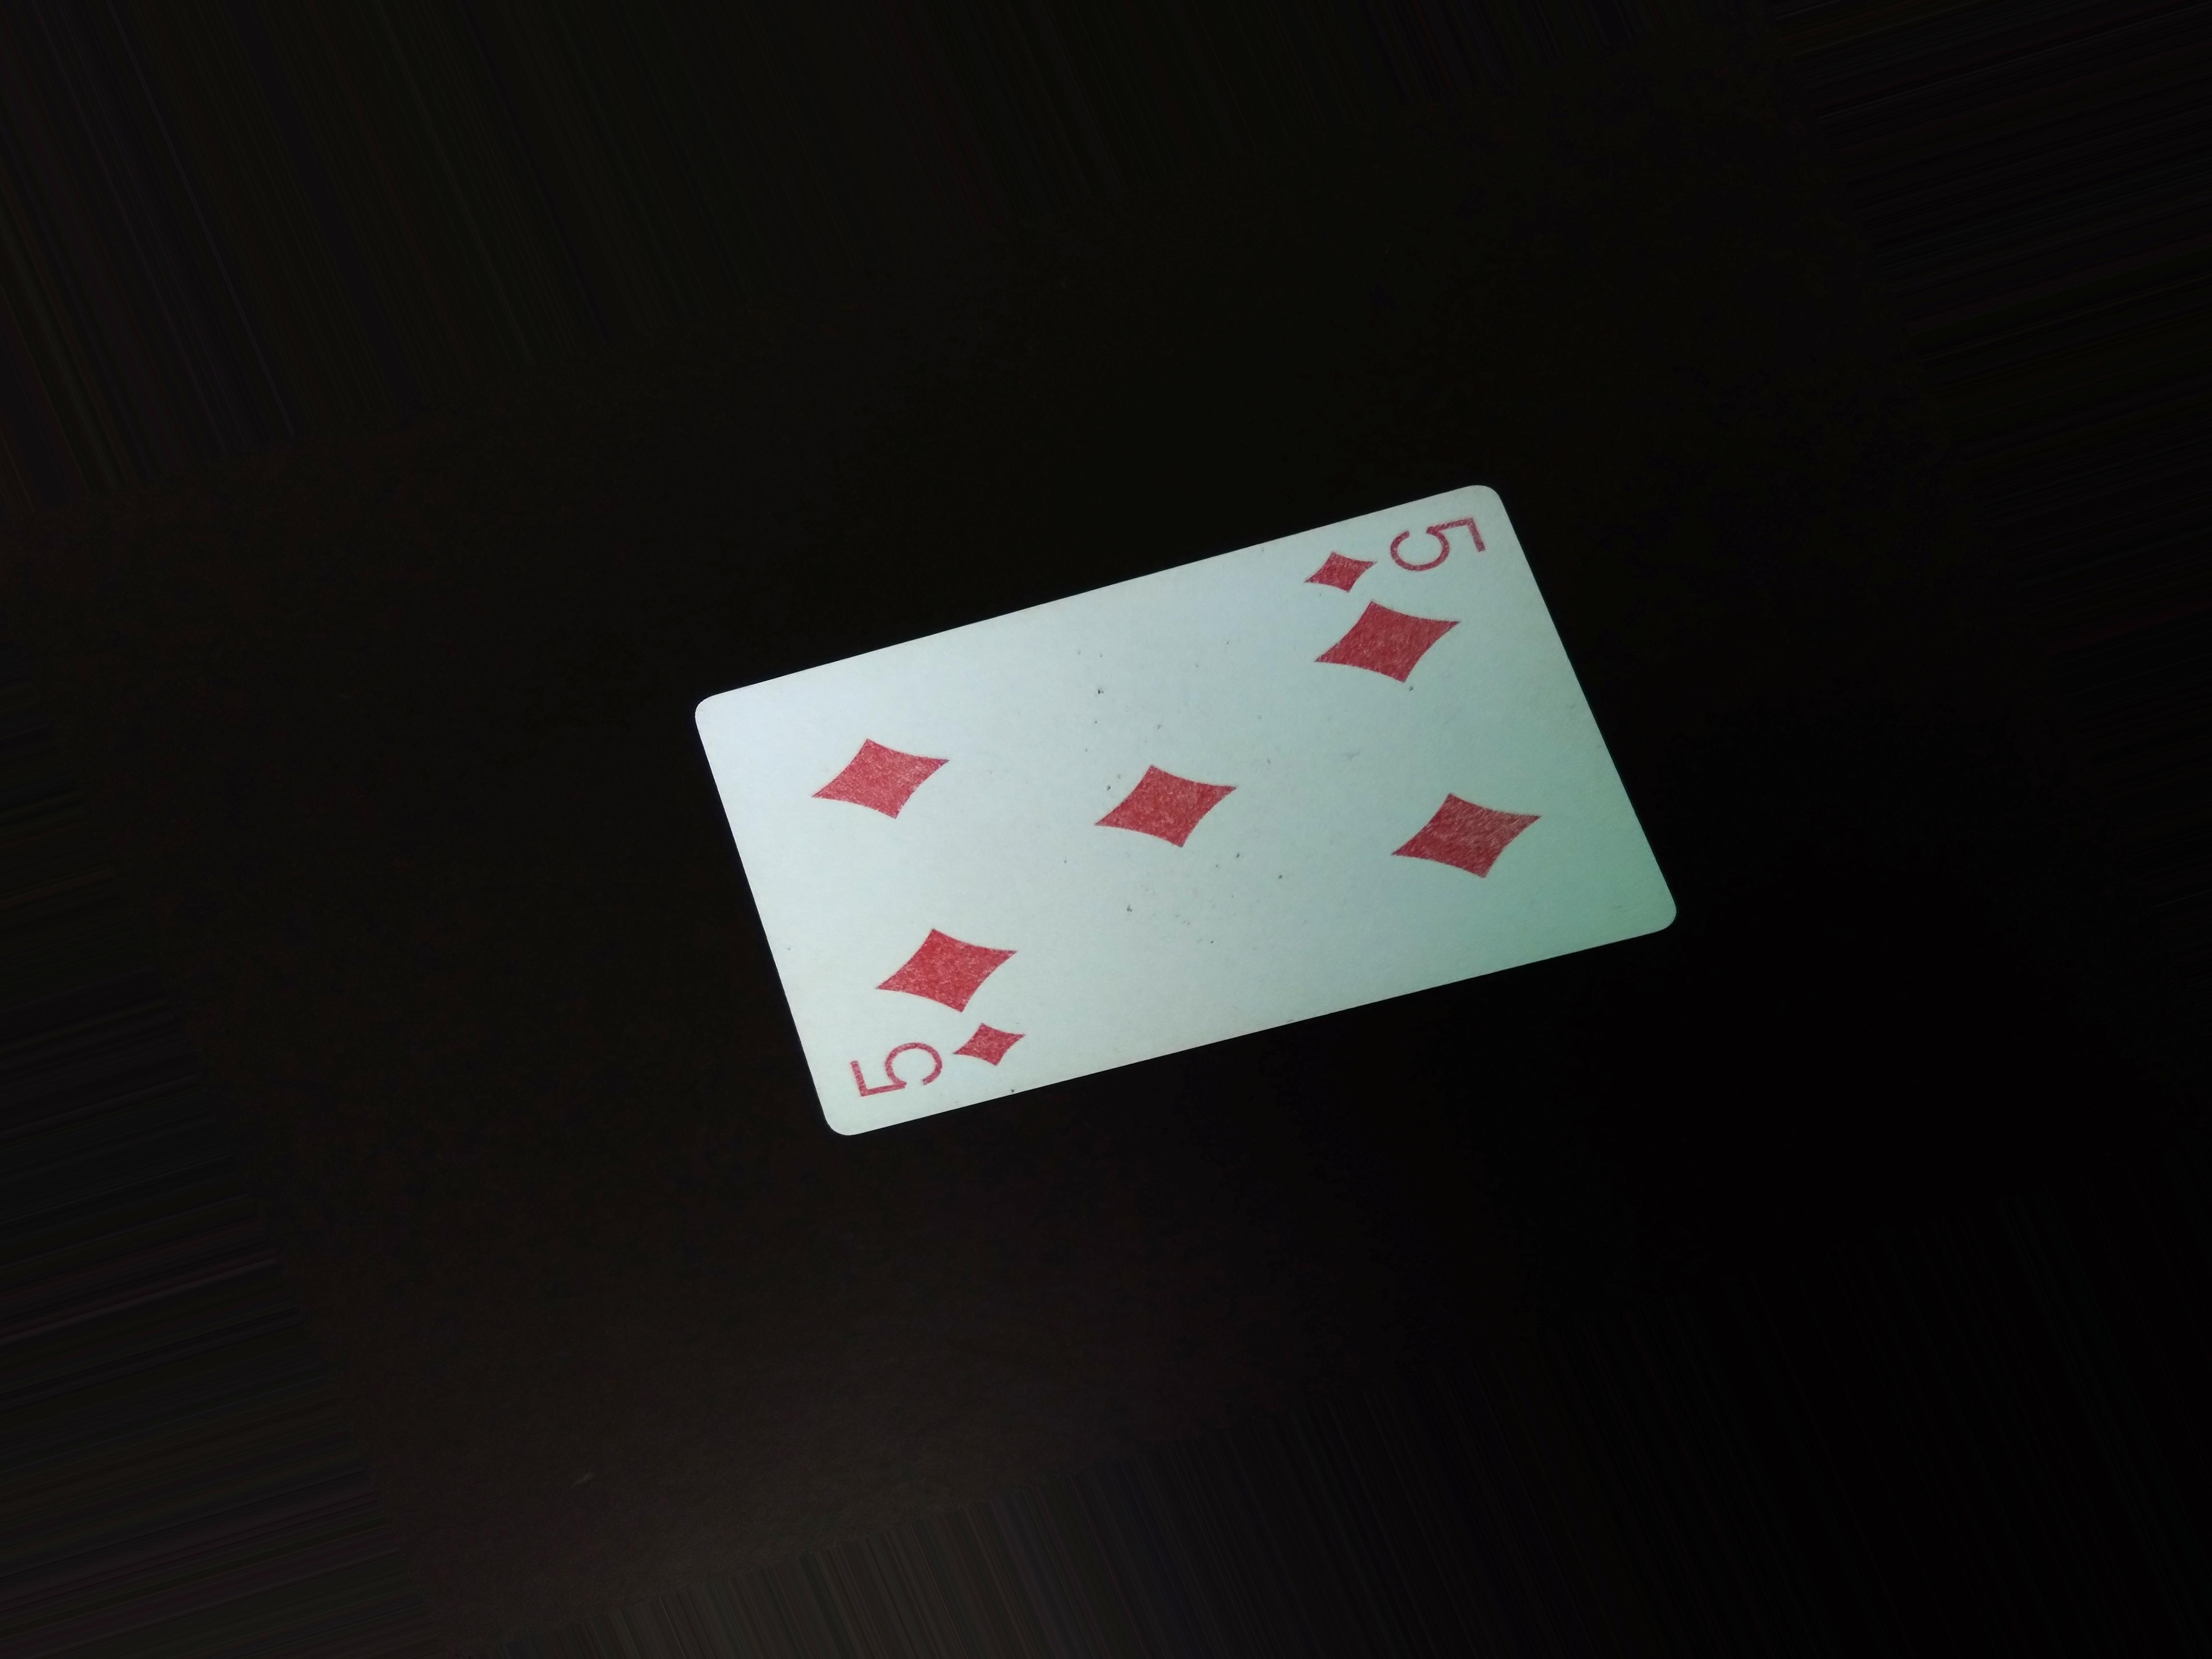5D: (822, 1018, 1028, 1101)
